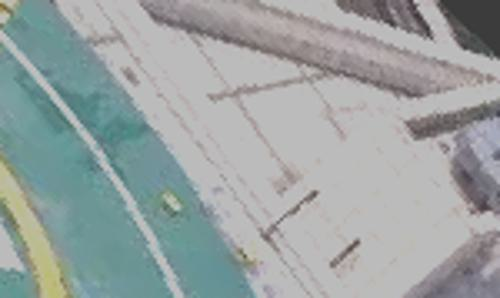Apron: (1, 142, 91, 293)
